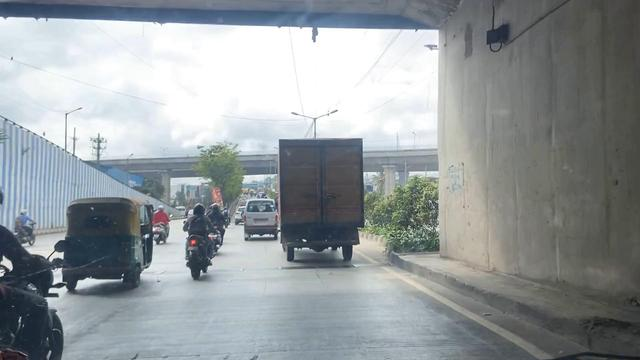HMV: (279, 137, 367, 266)
LMV: (58, 201, 152, 288), (186, 202, 222, 275), (246, 197, 275, 237)
